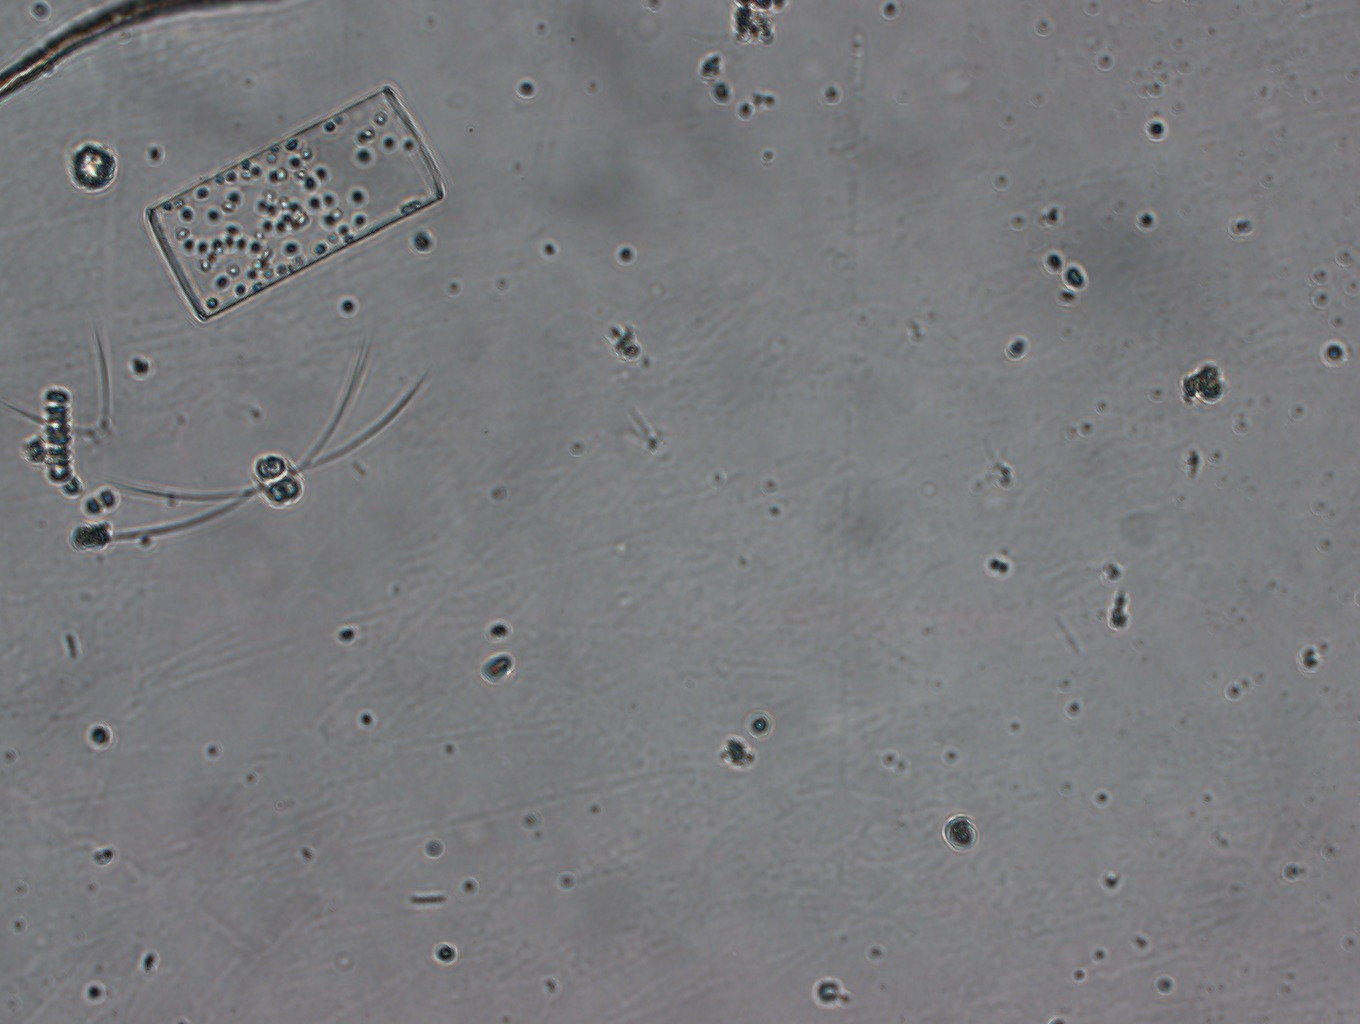chaetoceros: (92, 347, 450, 557)
guinardia flaccida: (135, 93, 450, 322)
